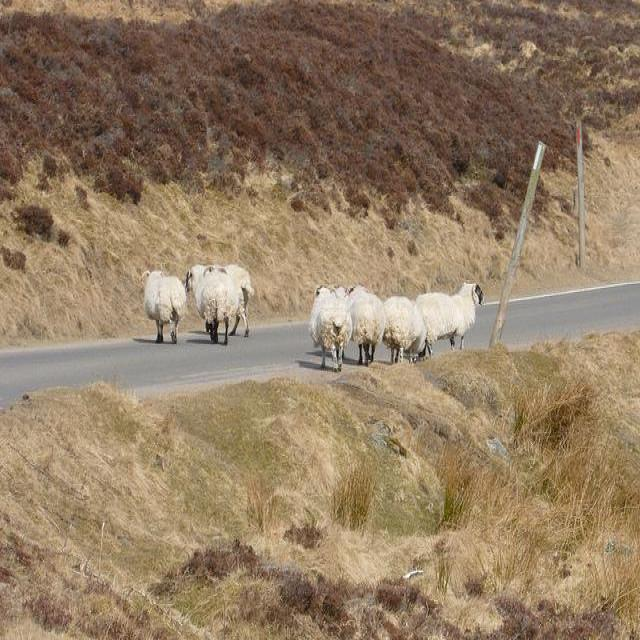Sheep: (415, 281, 485, 359), (185, 264, 254, 339), (330, 285, 383, 367), (310, 284, 353, 373), (195, 266, 239, 346), (382, 294, 427, 362), (142, 273, 182, 348)
